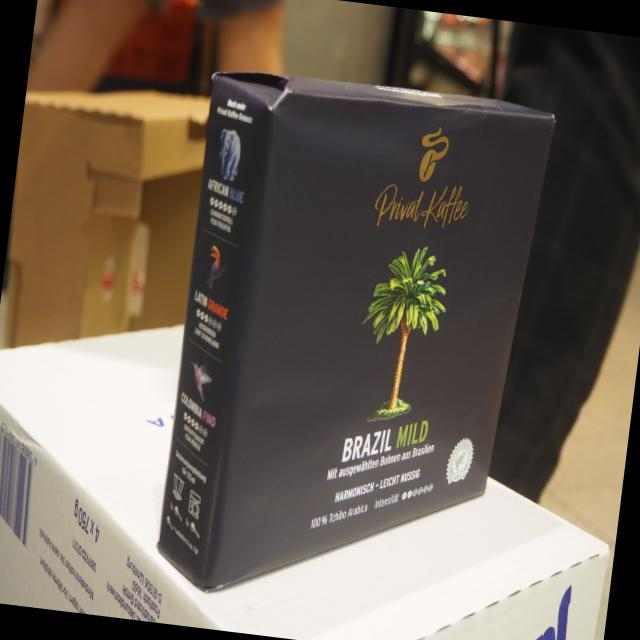BM Gemahlen: (142, 61, 561, 621)
